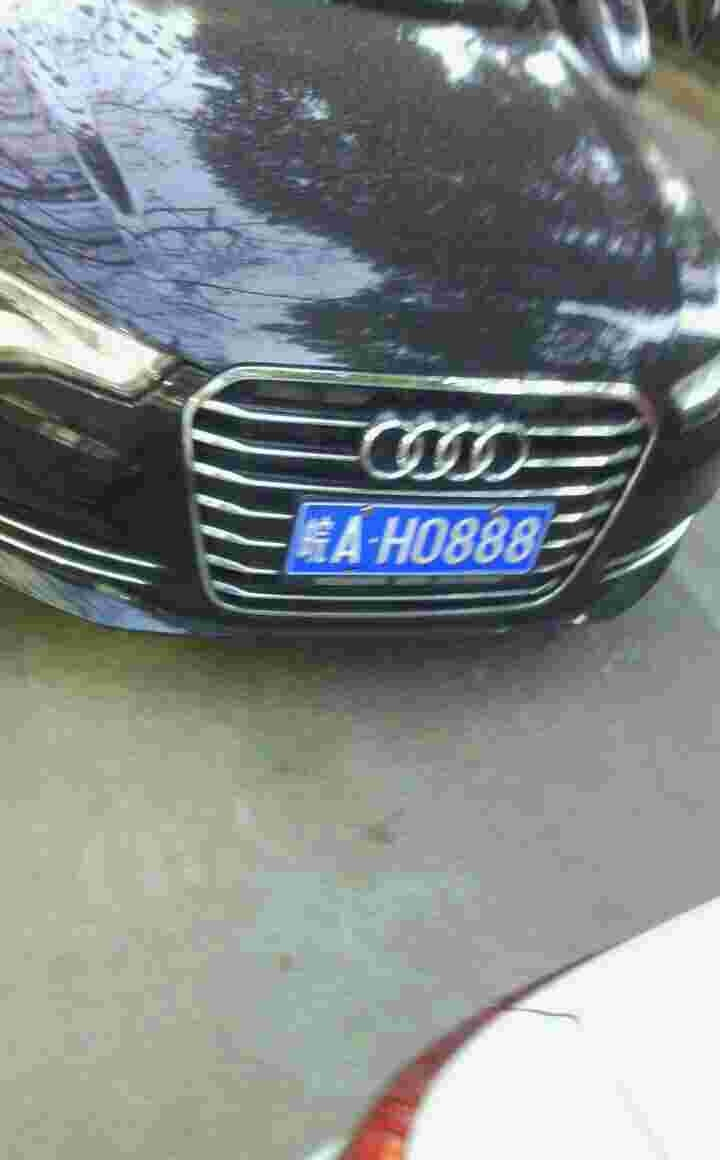plate: (289, 502, 562, 578)
